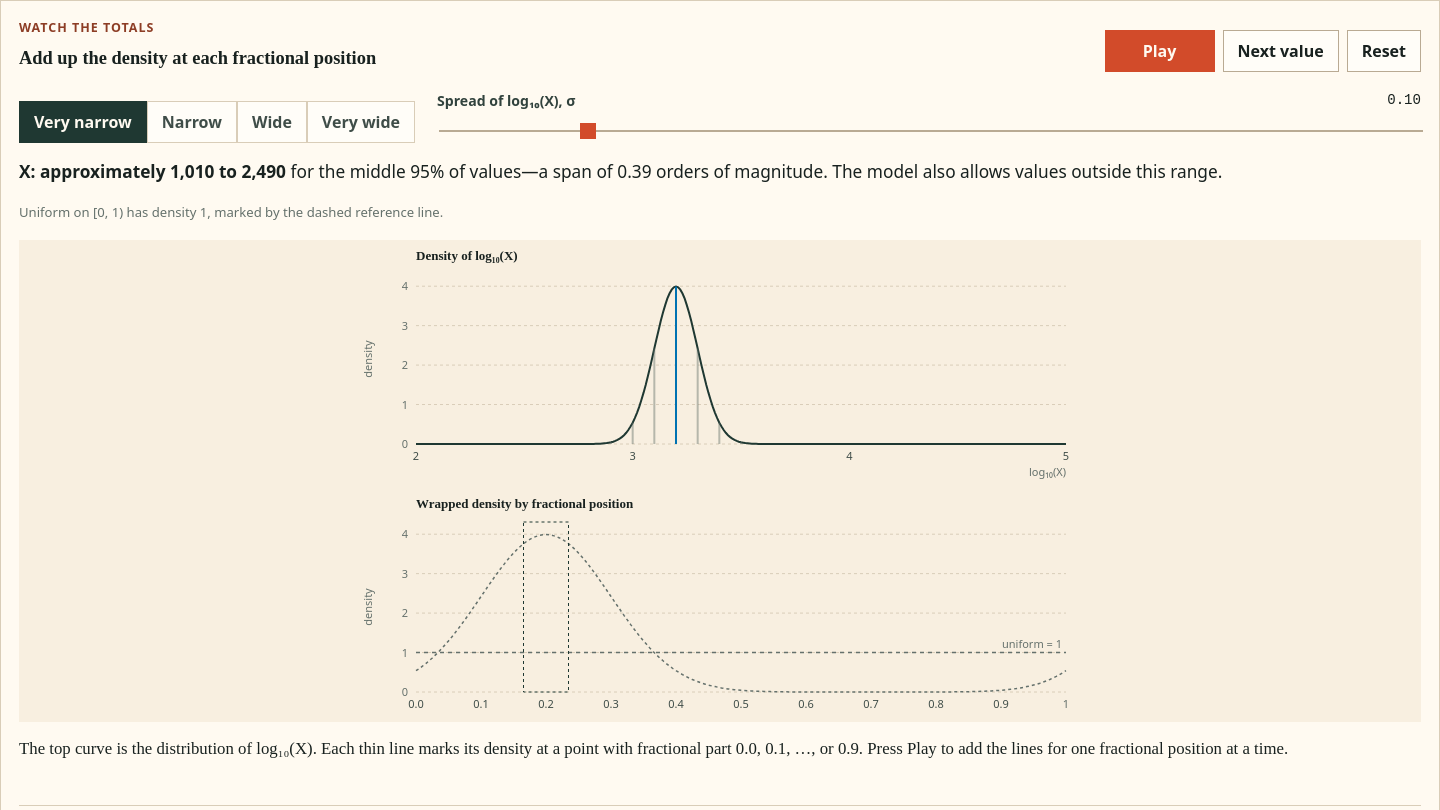
Test: WrapAnimation › shows narrow totals are not uniform and wide totals are
This screenshot has width=1440, height=810.
Click the button "Play". click: (1160, 51)
box: x1=1104 y1=30 x2=1214 y2=72
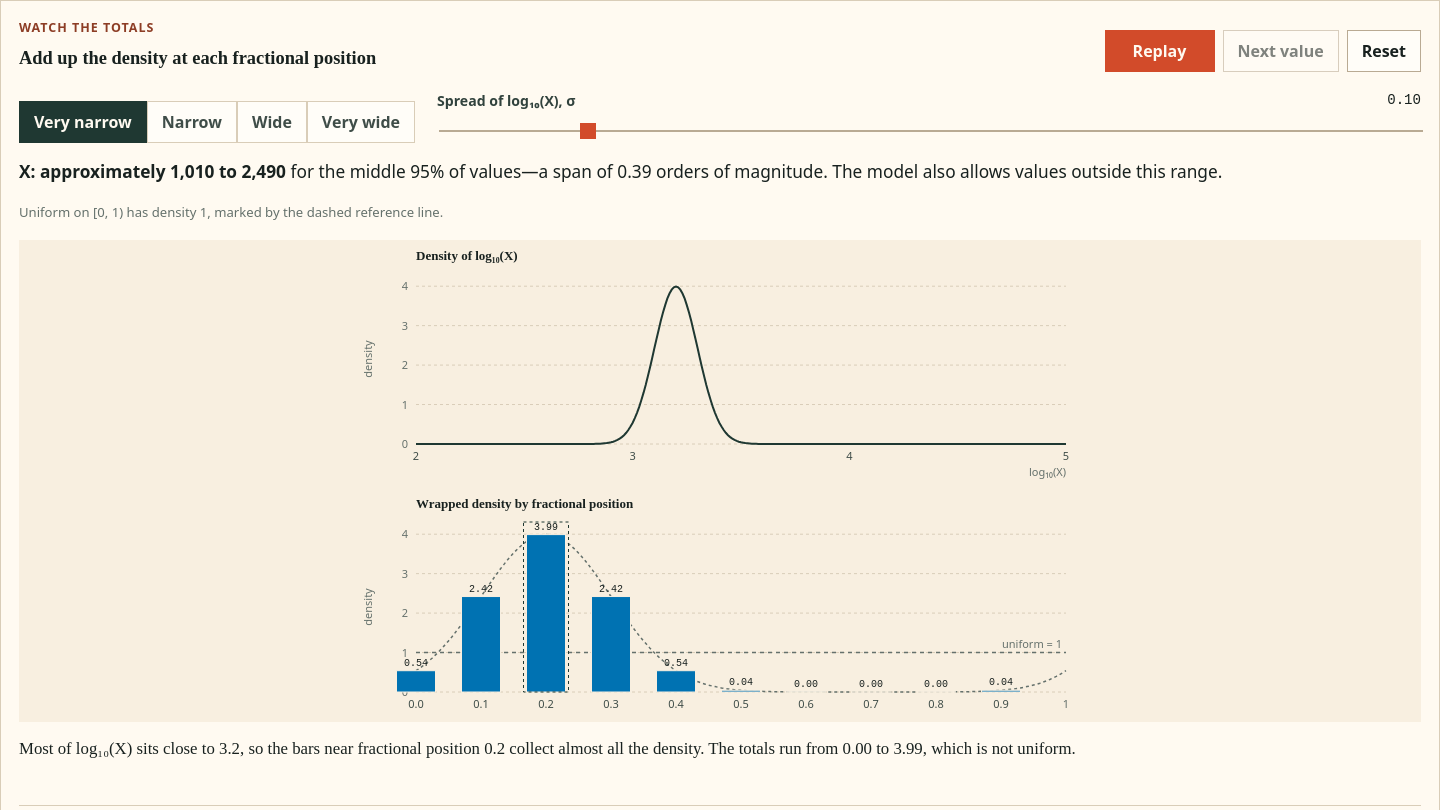
Now the text "which is not uniform" is shown, box x1=19 y1=739 x2=1076 y2=758
Click the button "Very wide". click: (361, 122)
box: x1=307 y1=101 x2=415 y2=143
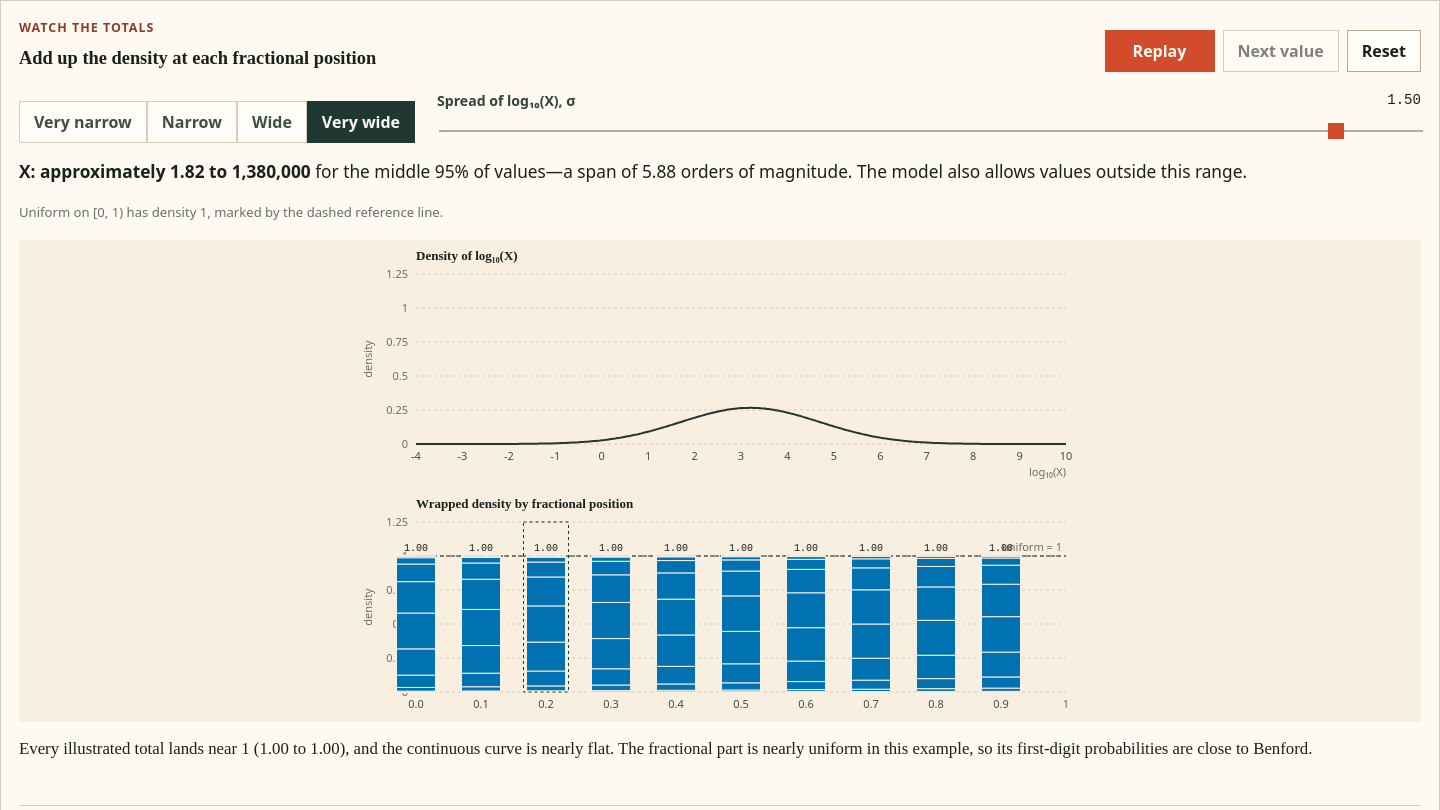
Now the text "nearly uniform in this example" is shown, box x1=19 y1=739 x2=1312 y2=758
